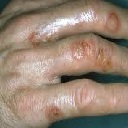Impetigo: (70, 41, 90, 57), (29, 26, 45, 45), (45, 105, 64, 121), (105, 12, 120, 31), (96, 51, 111, 69)
